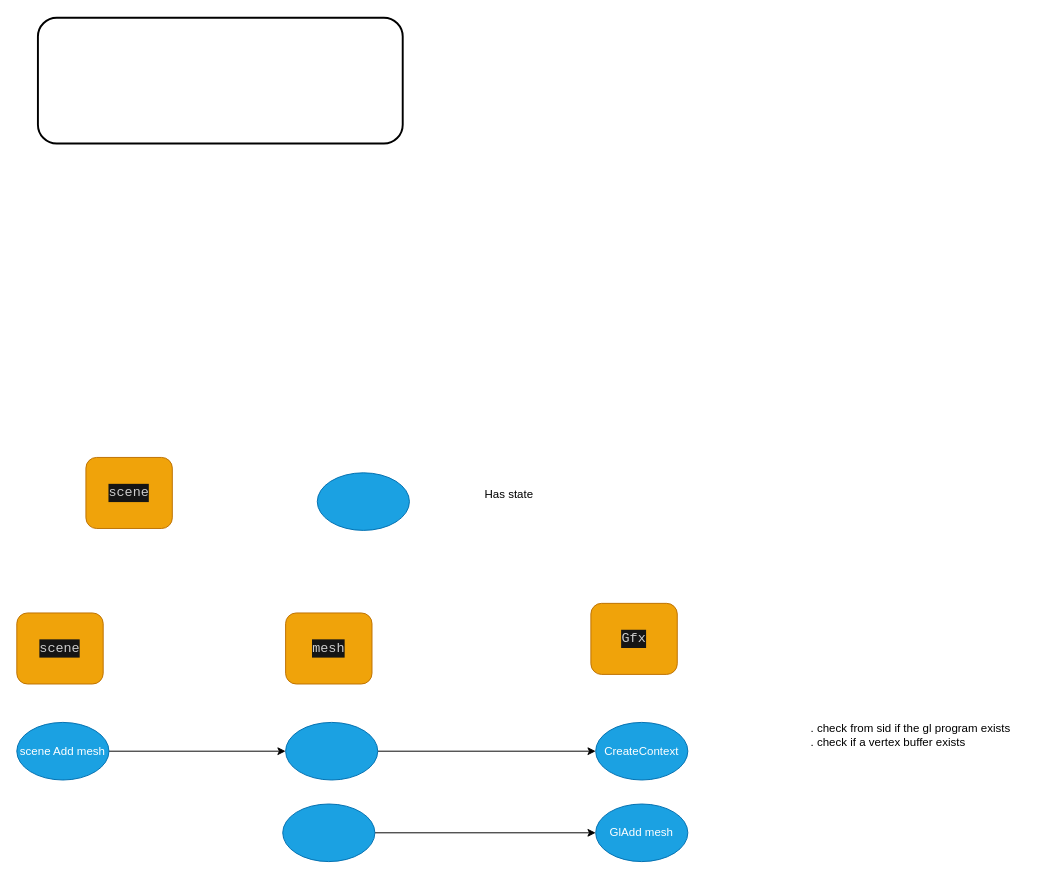
Some shapes in this 1051 by 878 pixel diagram are drawn without their labels. The shapes that lost their labels are listed below. From the top down, each one's centre as x and y in pixels, then its label:
the point at 219,80: Popups Implementation
the point at 362,501: Options Creation
the point at 331,750: mesh gets the Gfx context
the point at 328,832: mesh Add to graphics
